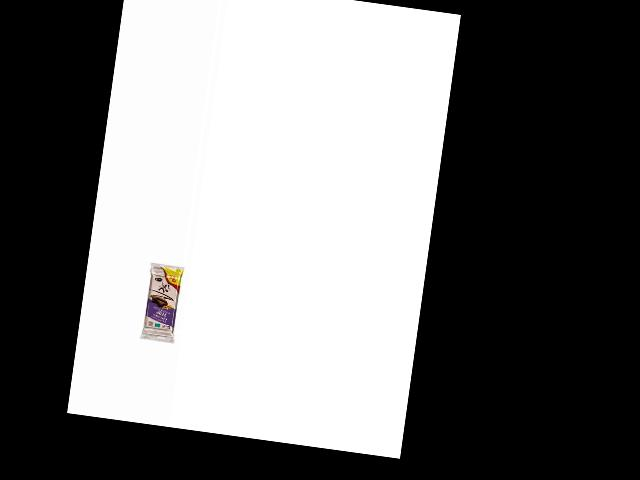chocolate: (137, 260, 186, 344)
